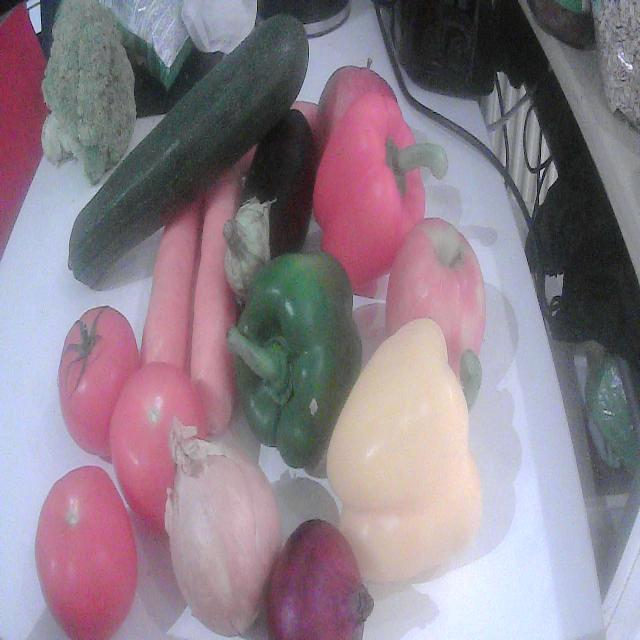Apple: (386, 219, 486, 377)
Bell Pepper: (326, 320, 480, 581), (228, 251, 362, 468), (314, 92, 448, 296)
Broccoli: (42, 0, 136, 184)
Carrot: (191, 172, 242, 434), (141, 189, 203, 375)
Courgette: (68, 16, 308, 289)
Eggplant: (224, 108, 314, 295)
Onion: (164, 421, 282, 636), (264, 520, 374, 639)
Tomato: (35, 468, 137, 639), (110, 363, 206, 532), (58, 306, 140, 460)
